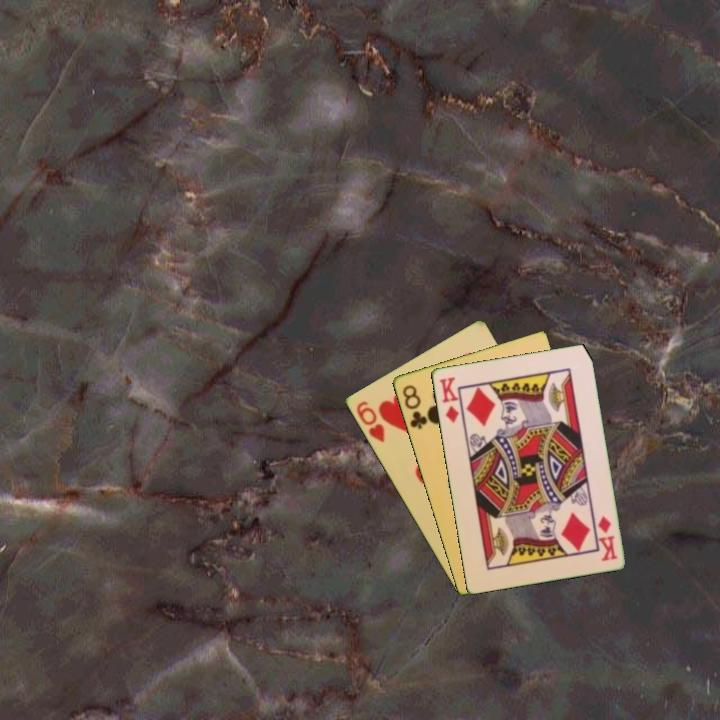6h: (352, 397, 387, 445)
8c: (398, 381, 430, 432)
Kd: (435, 373, 465, 427), (594, 512, 620, 564)
